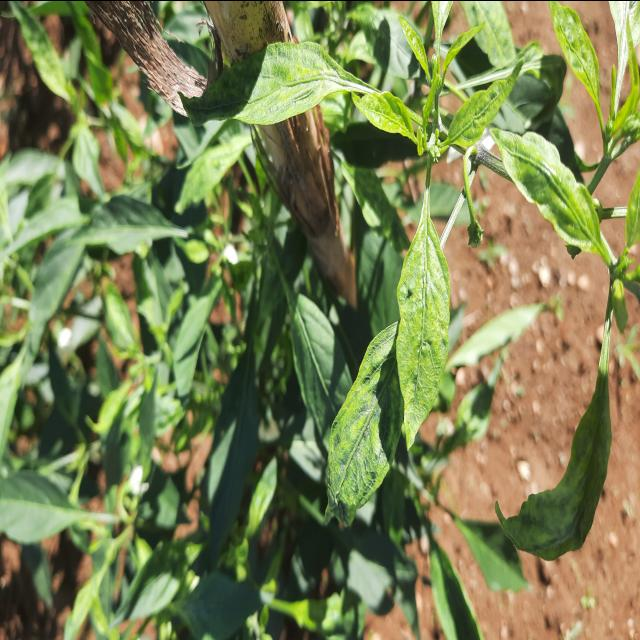thrips: (394, 182, 459, 472), (320, 330, 397, 552), (538, 9, 604, 125)
